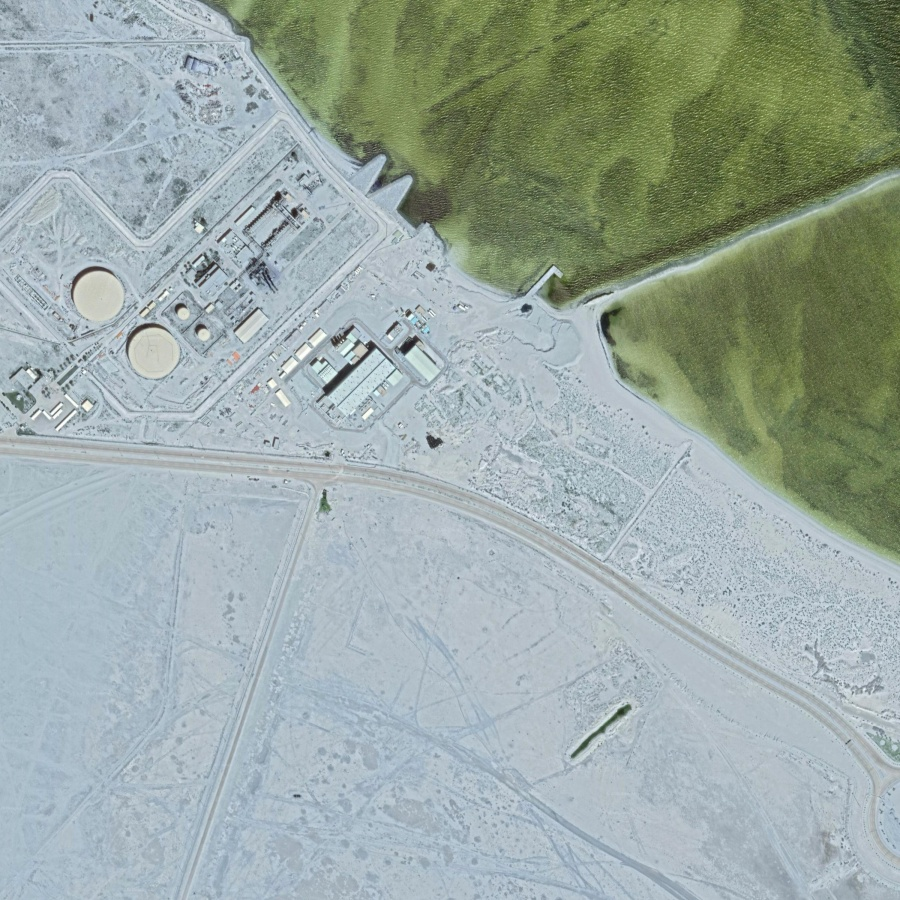PowerPlant: (50, 161, 455, 448)
